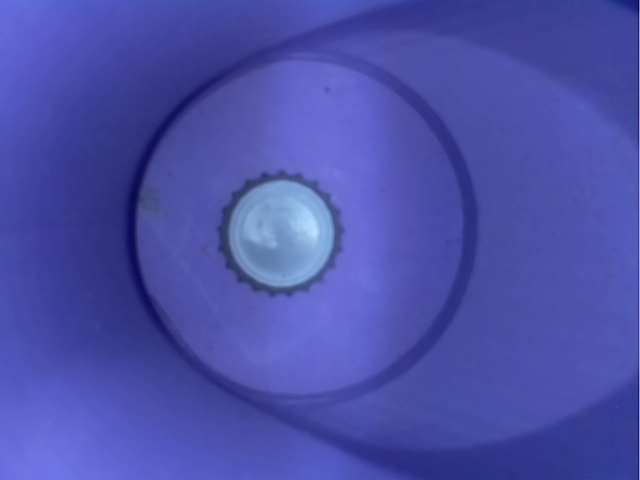capsule: (198, 163, 361, 301)
